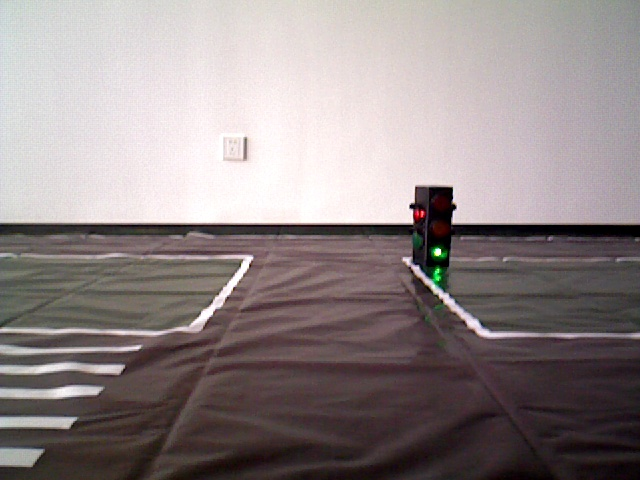green: (414, 185, 449, 262)
